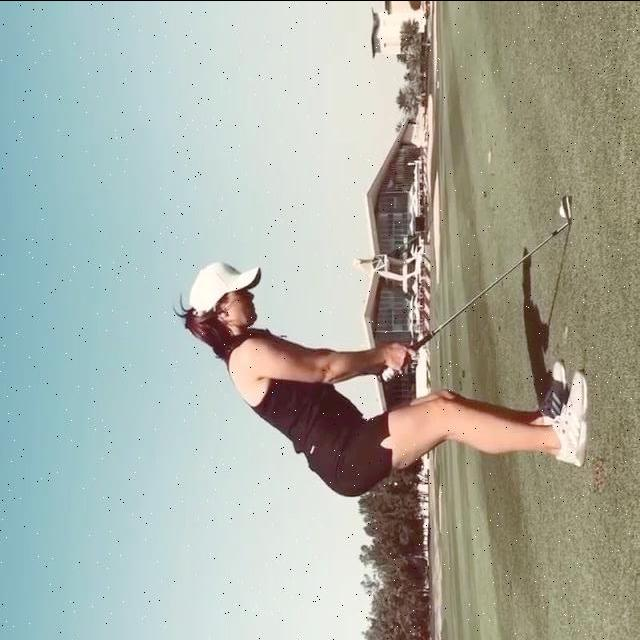golf ball: (559, 204, 566, 216)
golf club-handle: (376, 190, 574, 383)
golf club-head: (562, 192, 573, 219)
